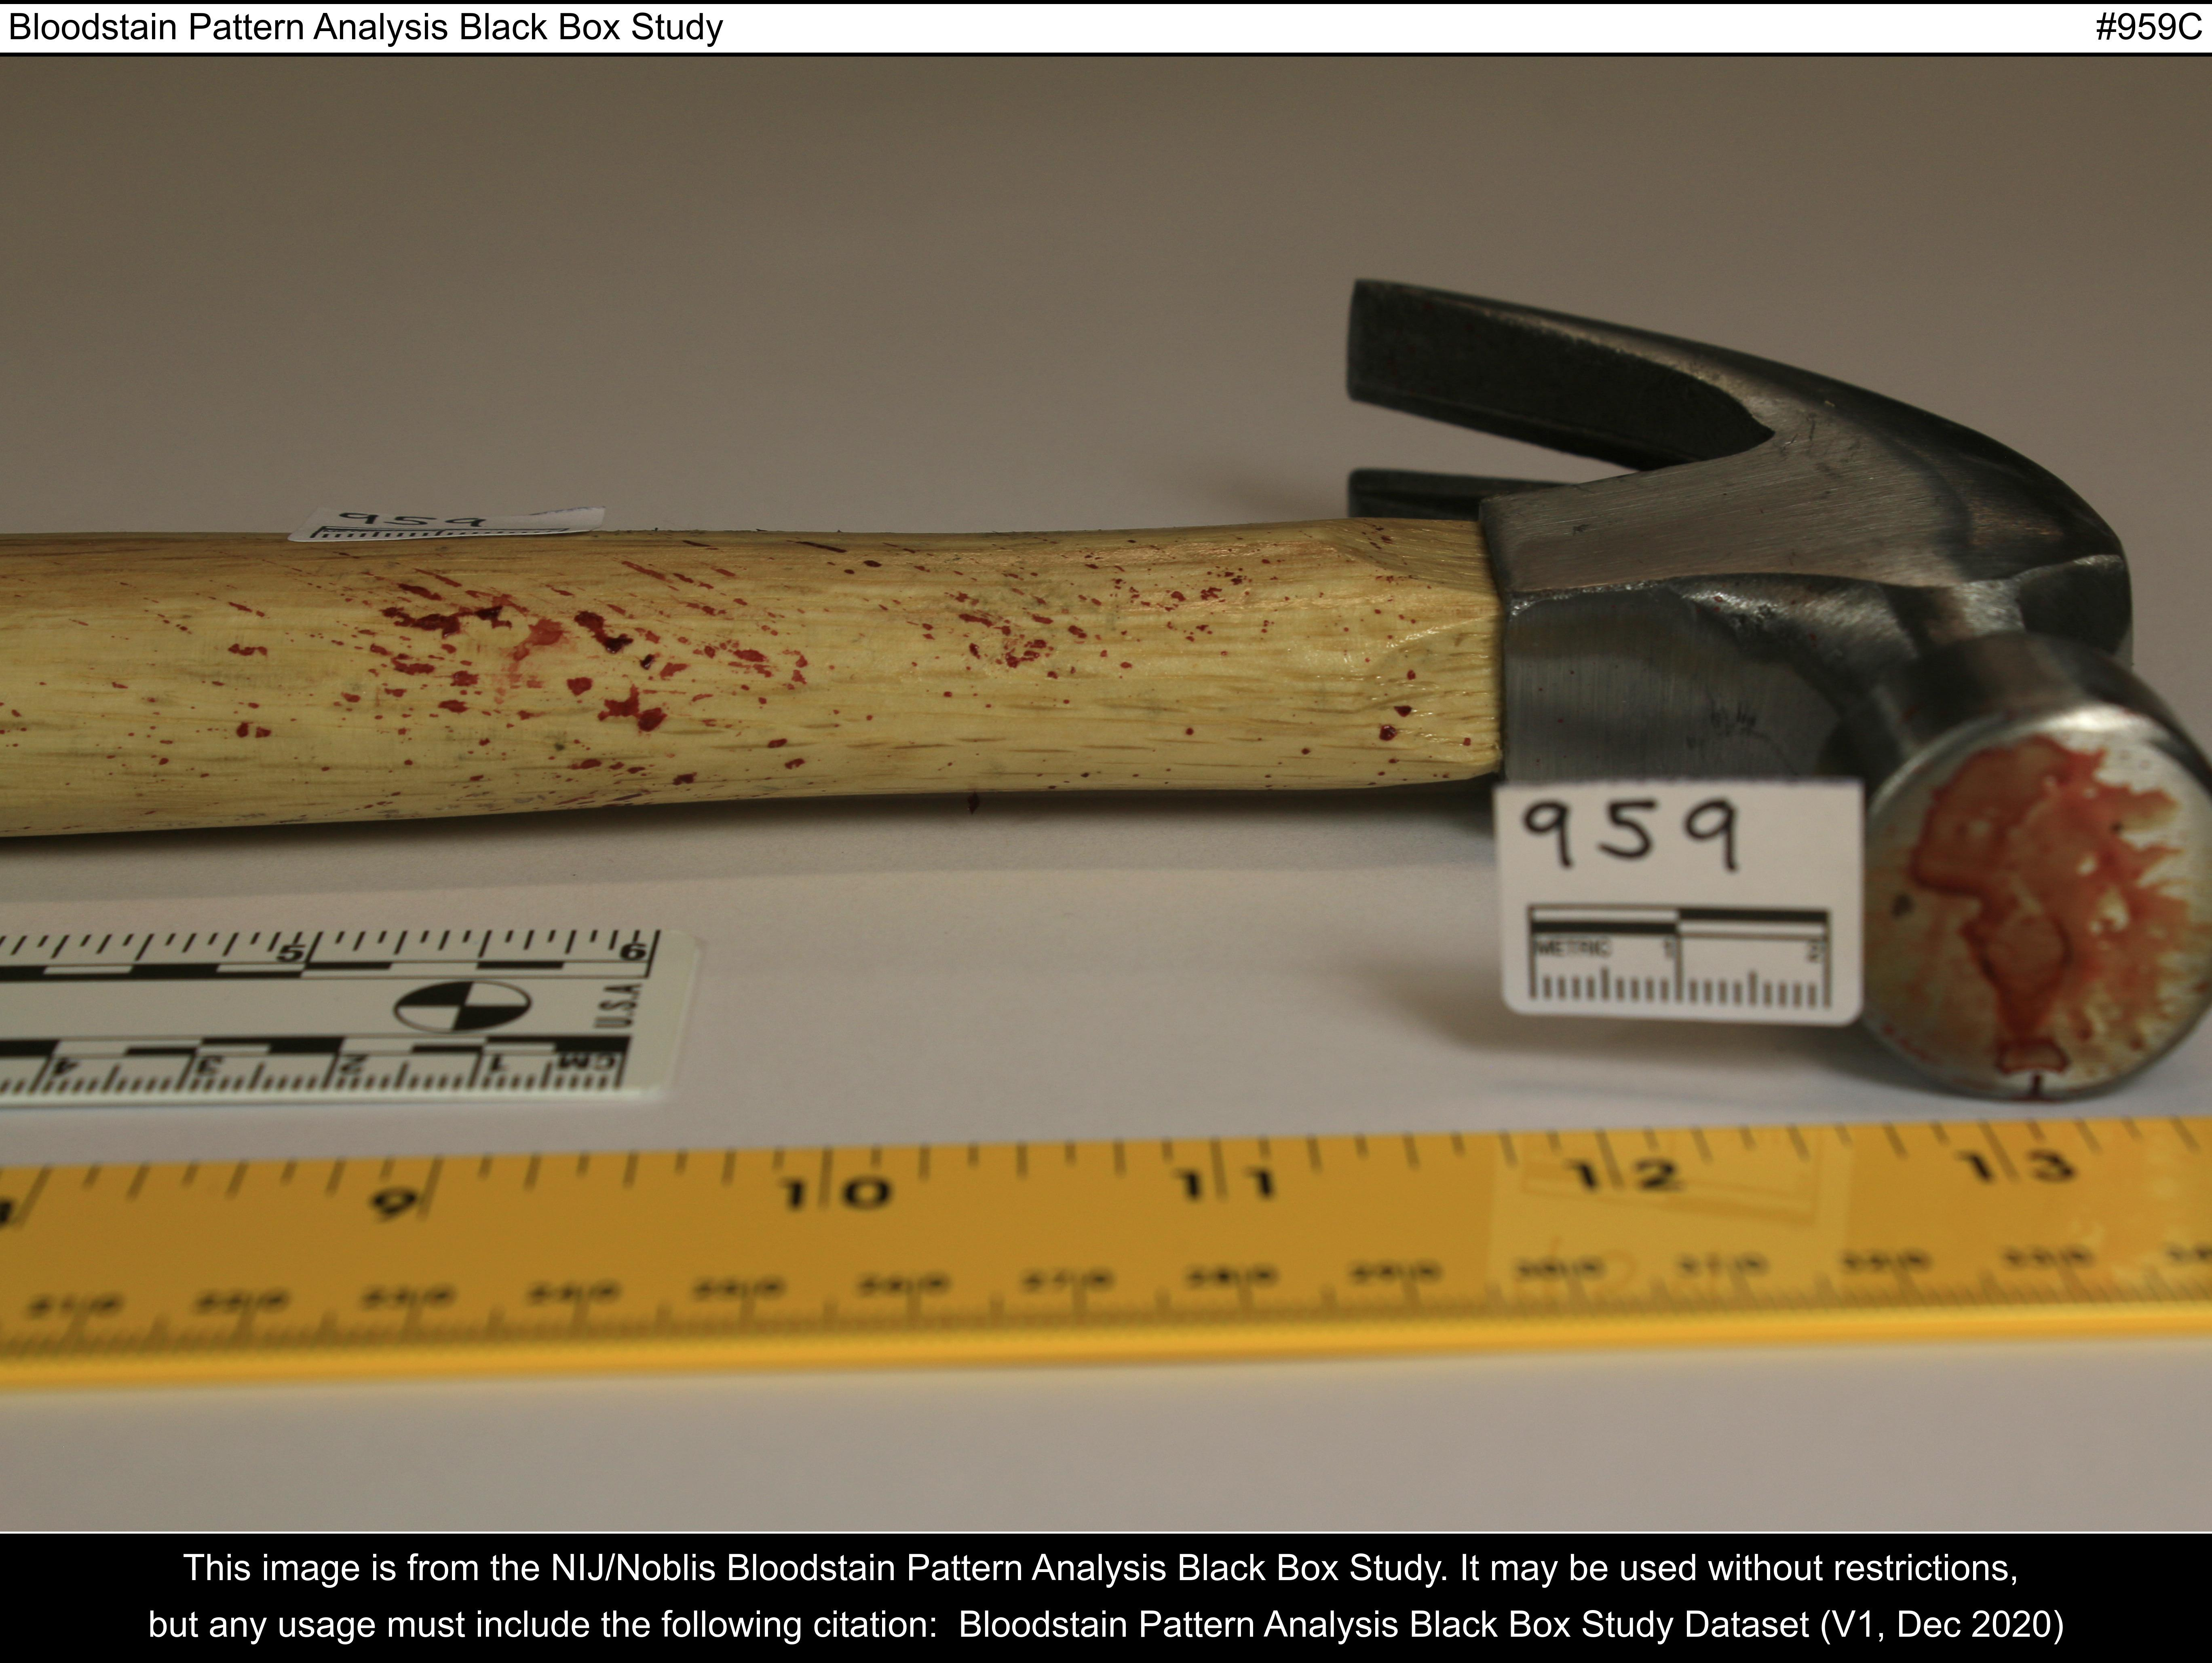Impact: (0, 526, 1496, 821)
Transfer: (1819, 713, 2212, 1104)
